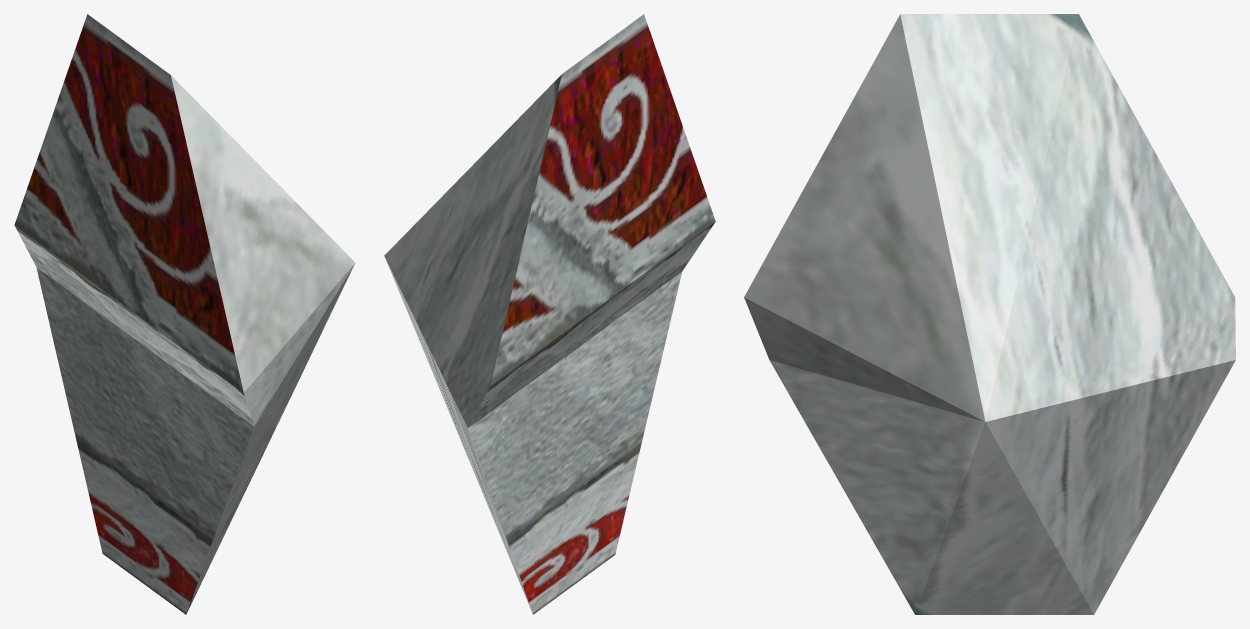
Rendered from Piece11.obj.
The picture shows the model from 3 angles, left to right: view 1: azimuth 30°, elevation 25°; view 2: azimuth 150°, elevation 25°; view 3: azimuth 270°, elevation 25°; orthographic projection. The views are drawn at different scales.
Bounding box in the file's own units: 12.6 × 29.53 × 22.34.
Materials: 2 (2 with a texture image).
